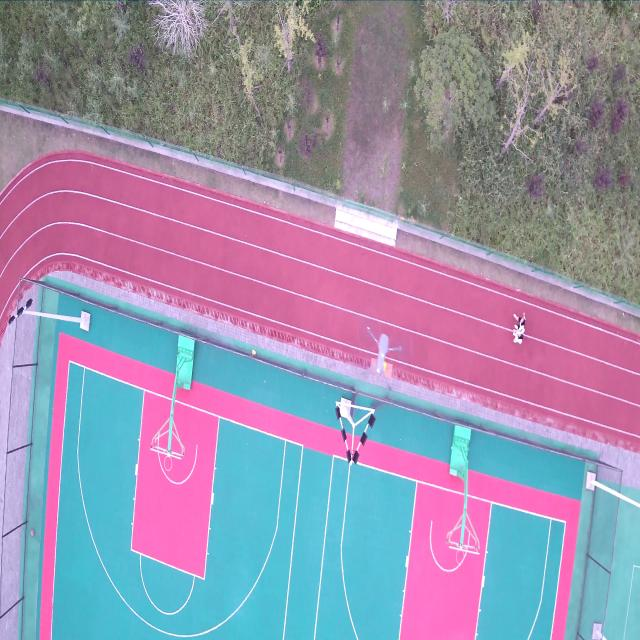UAV: (362, 327, 402, 392)
